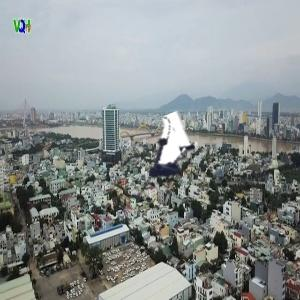drone: (112, 123, 208, 219)
